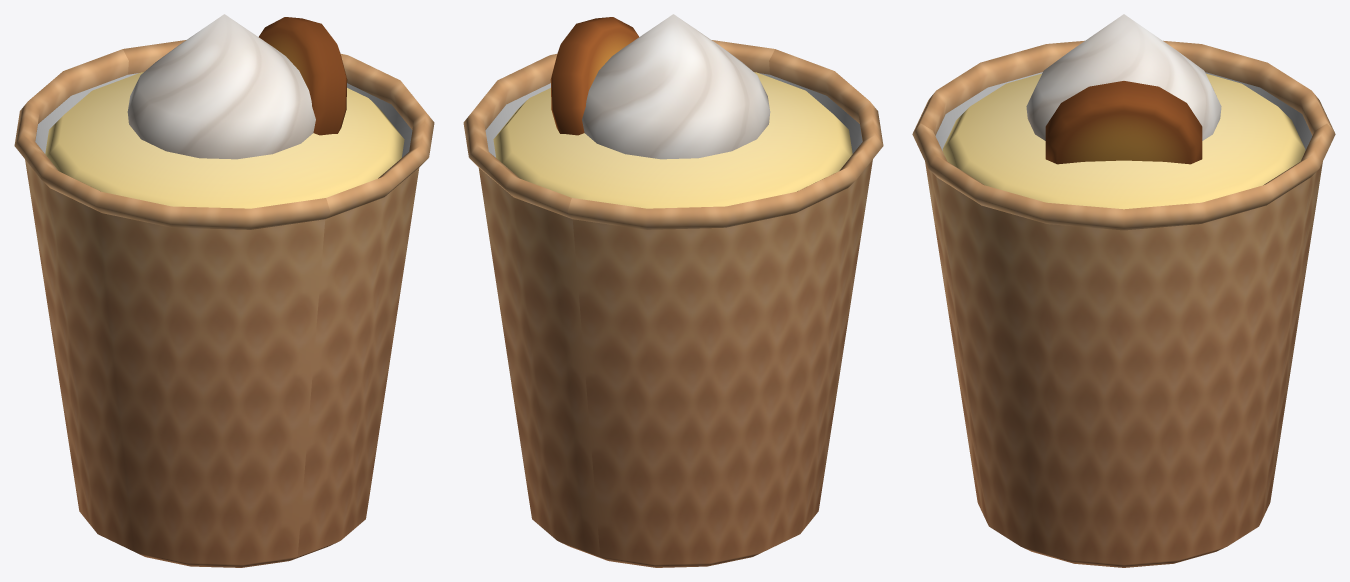
Rendered from 011-Parfait_04.FBX.
3 views of the same model, side by side, from view 1: azimuth 30°, elevation 25°; view 2: azimuth 150°, elevation 25°; view 3: azimuth 270°, elevation 25° (orthographic).
Parts seen in each view (by area): view 1: 011-Parfait_04-2, 011-Parfait_04-1; view 2: 011-Parfait_04-2, 011-Parfait_04-1; view 3: 011-Parfait_04-2, 011-Parfait_04-1.
Boxes of the visible parts, <box> form: 011-Parfait_04-2: <box>14,40,434,567</box>; 011-Parfait_04-1: <box>45,14,404,208</box>; 011-Parfait_04-2: <box>463,40,883,567</box>; 011-Parfait_04-1: <box>493,14,852,208</box>; 011-Parfait_04-2: <box>912,40,1335,567</box>; 011-Parfait_04-1: <box>942,14,1305,209</box>.
Size of the model in its own units: 14.13 by 18.37 by 14.13.
